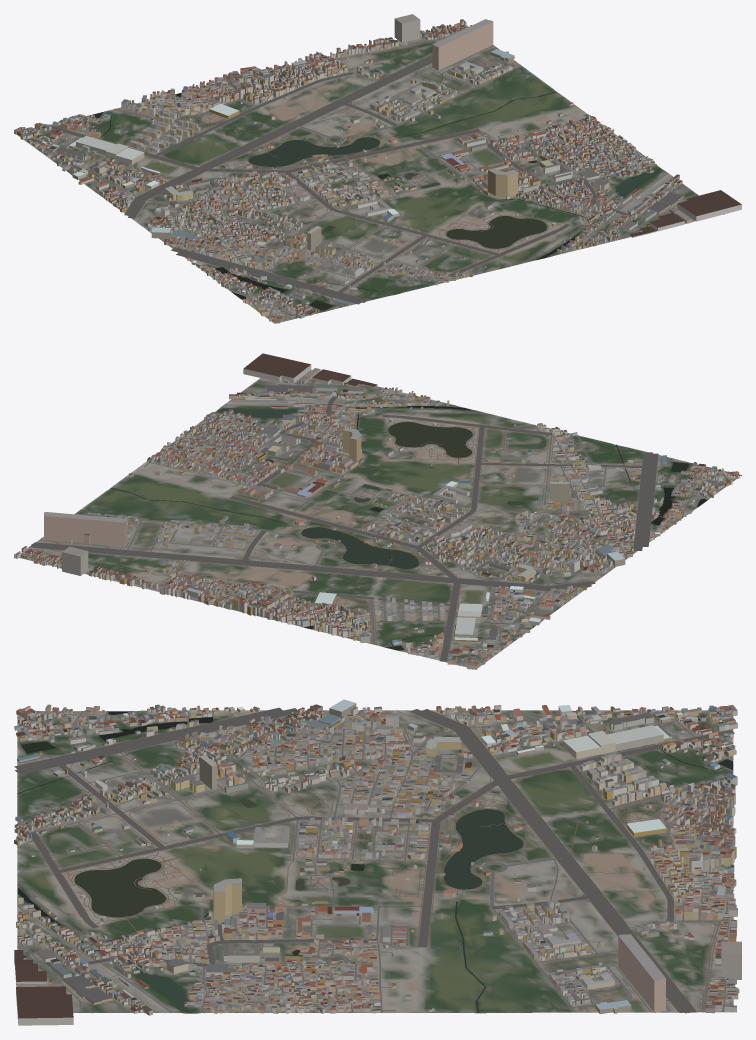
3 renders of one model, top to bottom at view 1: azimuth 30°, elevation 25°; view 2: azimuth 150°, elevation 25°; view 3: azimuth 270°, elevation 25°, orthographic. The views are drawn at different scales.
Parts seen in each view (by area): view 1: ground, buildings, roads, water; view 2: ground, buildings, roads, water; view 3: ground, buildings, roads, water.
Part boxes in pixels (x1,y1,x2,y2): ground: (17,24,724,323); buildings: (14,14,741,323); roads: (36,26,697,321); water: (40,91,661,310); ground: (19,370,741,667); buildings: (14,353,739,669); roads: (21,379,734,667); water: (110,406,706,650); ground: (17,710,733,1013); buildings: (14,699,741,1025); roads: (14,707,734,1013); water: (17,711,732,1013).
Size of the model in its own units: 1471 by 74.82 by 1425.
